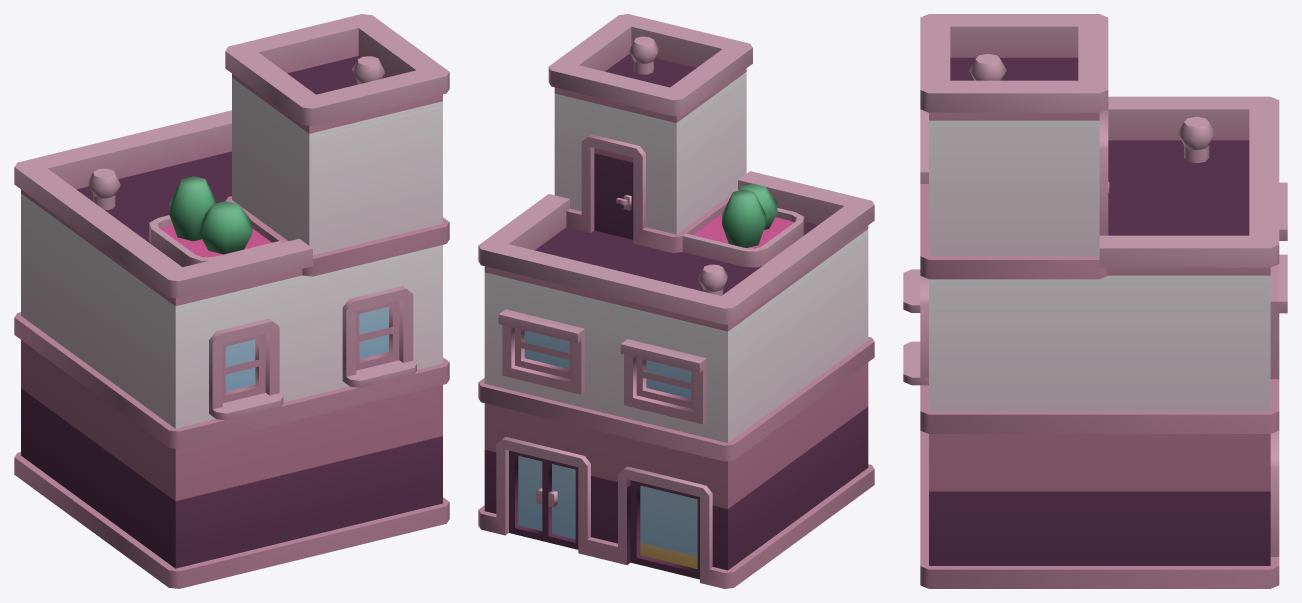
File: shop_2story_roofdeck.obj
3 renders of one model, left to right at view 1: azimuth 30°, elevation 25°; view 2: azimuth 150°, elevation 25°; view 3: azimuth 270°, elevation 25°, orthographic. The views are drawn at different scales.
Visible parts, largest first — view 1: building-d; view 2: building-d; view 3: building-d.
Boxes of the visible parts, left/top/right/bottom form: building-d: left=14, top=14, right=449, bottom=588; building-d: left=478, top=14, right=874, bottom=588; building-d: left=903, top=14, right=1287, bottom=588.
Size of the model in its own units: 16.8 by 25.86 by 18.
1 material, 1 textured.
